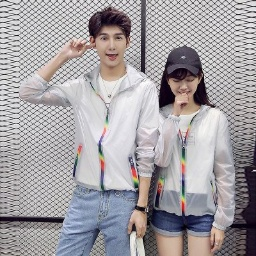face: (88, 8, 131, 69), (159, 61, 210, 111)
